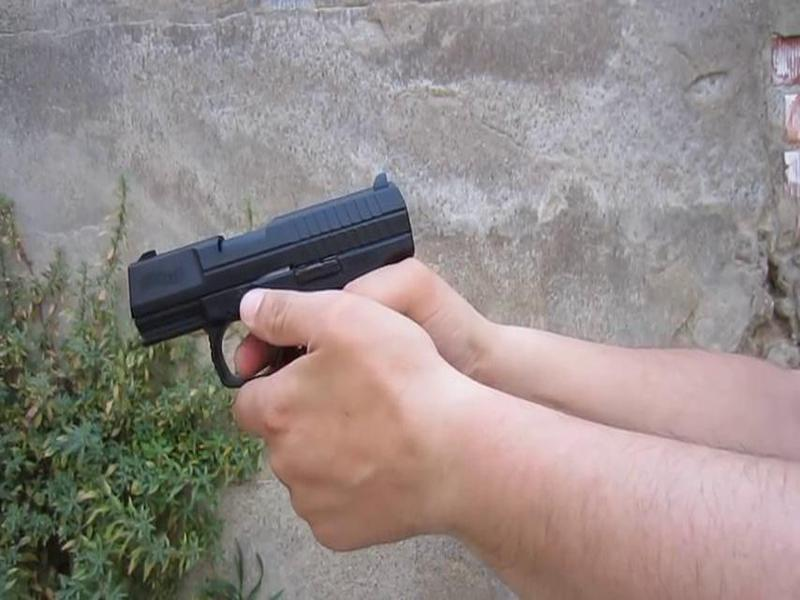Pistola: (107, 167, 432, 390)
